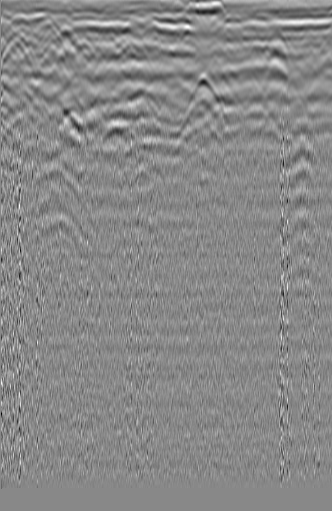상수: (259, 32, 295, 73)
오수: (1, 38, 36, 71)
우수: (110, 40, 149, 68)
